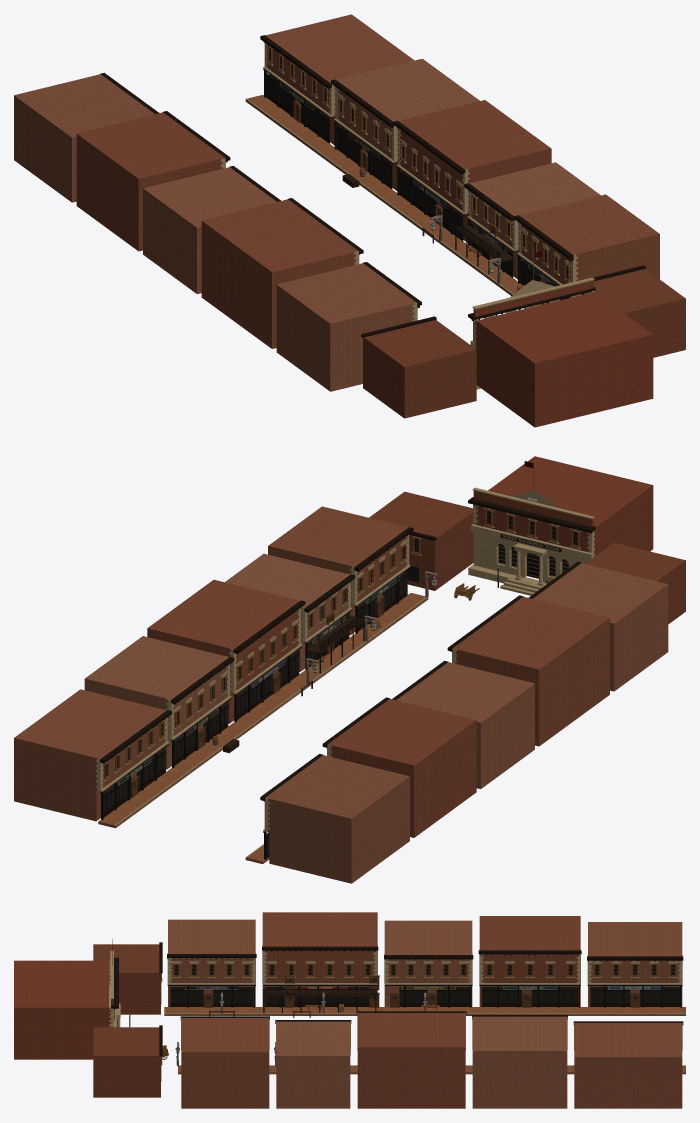
File: bank.glb
3 renders of one model, top to bottom at view 1: azimuth 30°, elevation 25°; view 2: azimuth 150°, elevation 25°; view 3: azimuth 270°, elevation 25°, orthographic. The views are drawn at different scales.
Parts seen in each view (by area): view 1: masonry, walls, trim, kit (×2), windows, signs; view 2: masonry, trim, kit (×2), walls, windows, signs, arena-bank; view 3: masonry, trim, kit (×2), windows, walls, signs, arena-bank.
Boxes of the visible parts, x1,y1,x2,y2 form: masonry: (14, 14, 685, 427); walls: (100, 35, 645, 337); trim: (263, 69, 568, 303); kit (×2): (267, 45, 569, 302); windows: (266, 73, 570, 299); signs: (280, 82, 557, 286); masonry: (14, 456, 685, 883); trim: (100, 459, 567, 859); kit (×2): (104, 508, 579, 797); walls: (100, 497, 595, 801); windows: (103, 544, 568, 853); signs: (118, 497, 561, 785); arena-bank: (212, 565, 548, 745); masonry: (14, 912, 685, 1108); trim: (112, 939, 682, 1055); kit (×2): (114, 963, 676, 1064); windows: (161, 983, 679, 1081); walls: (111, 942, 683, 1056); signs: (184, 986, 660, 989); arena-bank: (129, 992, 427, 1066).
Size of the model in its own units: 46.8 by 16.8 by 99.2.
8 materials, 7 textured.
